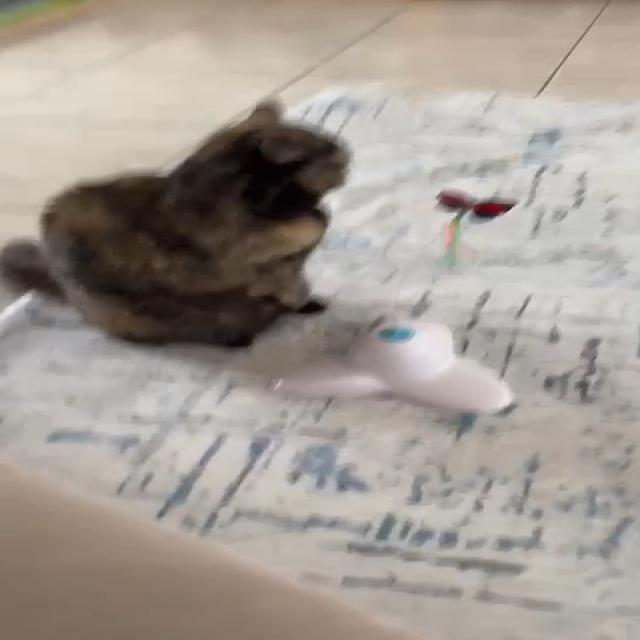authorized: (1, 96, 352, 349)
